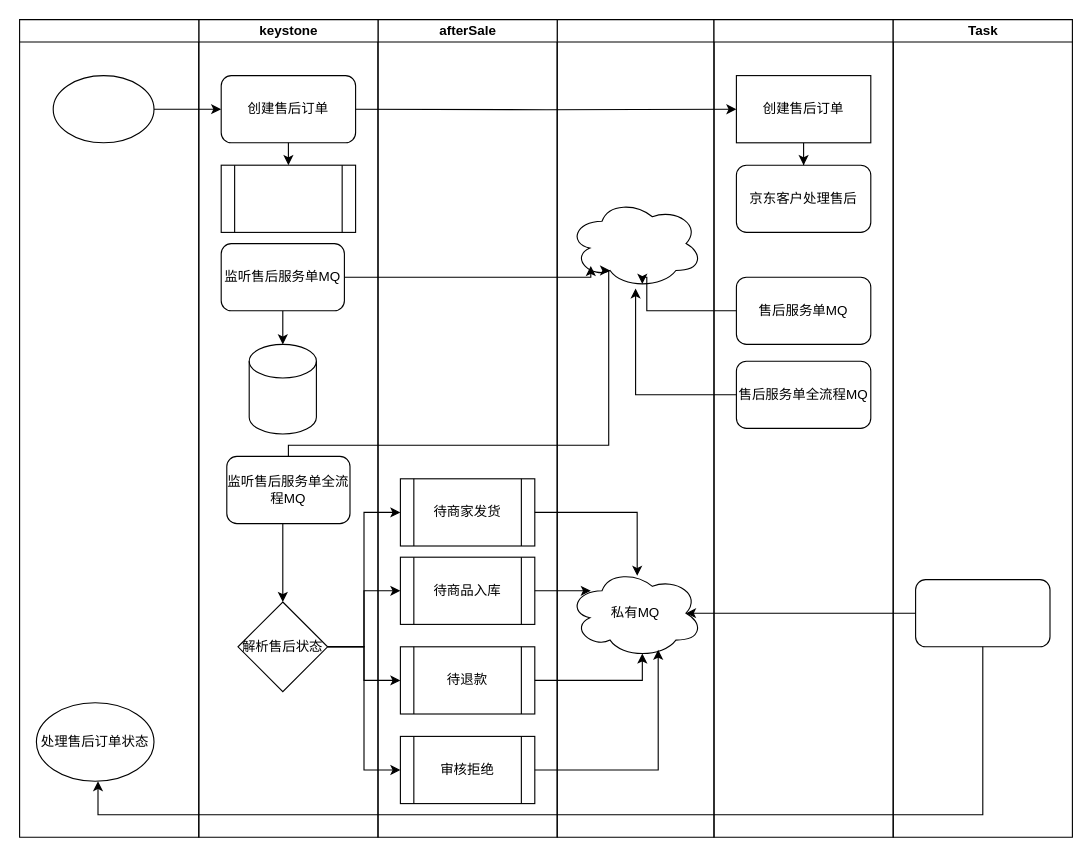
Image size: 1092x857. Some labels were removed from this diagram. The box of each missing label's shape, as (x1, y1, x2, y2) in pixels:
DB: (248, 343, 316, 434)
kdsp: (18, 18, 199, 837)
MQ: (556, 18, 714, 837)
Third: (713, 18, 893, 837)
公网MQ: (567, 198, 703, 288)
售后申请: (52, 74, 154, 143)
商家审核中: (220, 164, 356, 232)
通知服务: (914, 578, 1050, 647)
